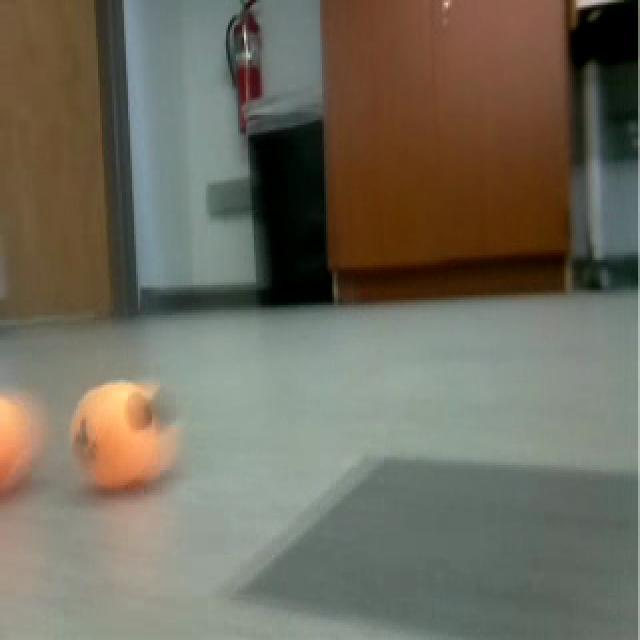ping-pong-ball: (76, 376, 170, 490), (0, 386, 40, 494)
